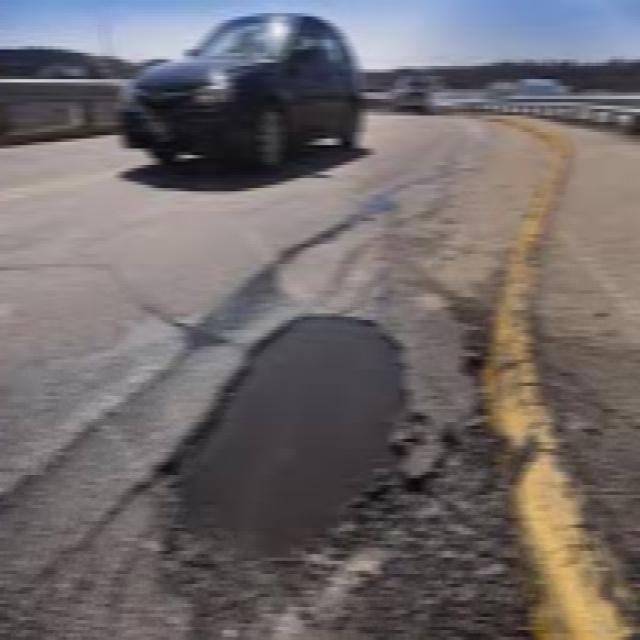Pothole: (151, 307, 425, 585)
